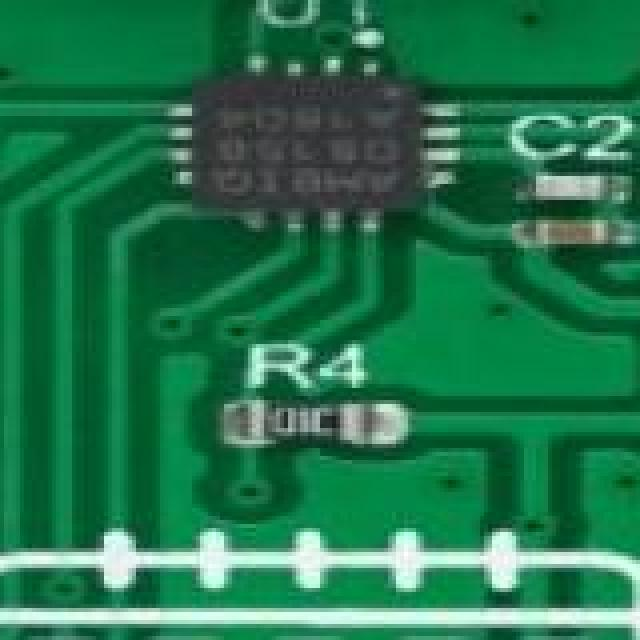IC: (192, 68, 446, 228)
capacitor: (528, 172, 638, 212), (524, 220, 640, 256)
resistor: (228, 412, 372, 452)
